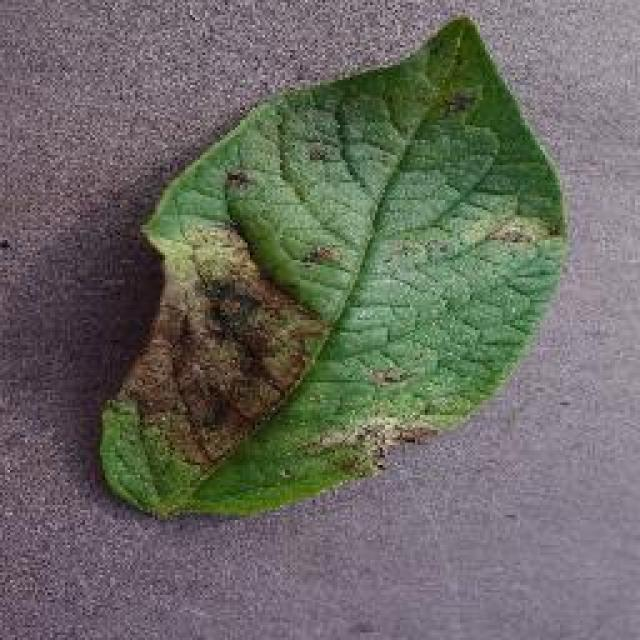late_blight: (92, 12, 572, 522)
